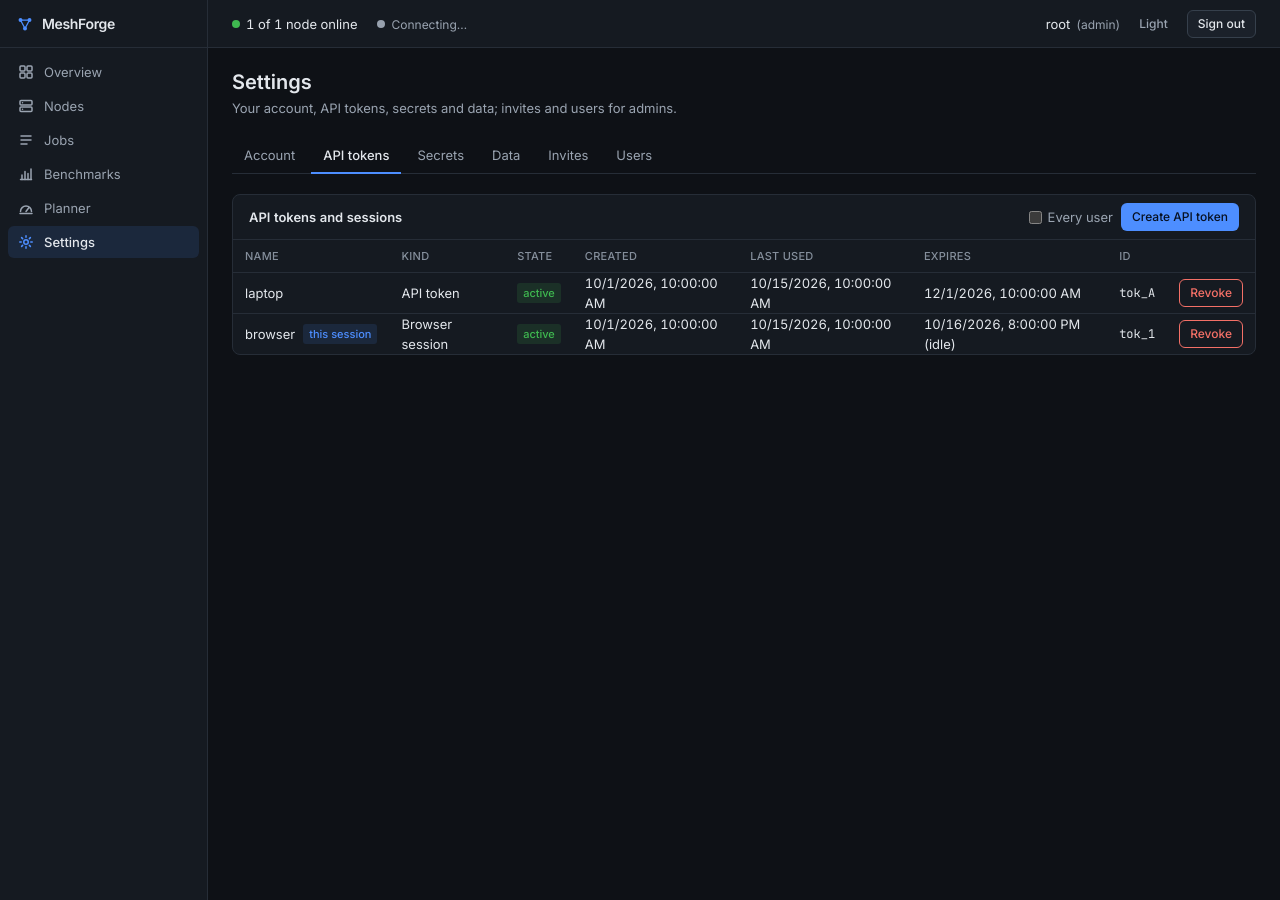
Test: API tokens › lists what the API returns; an admin can show every user's
Expected: the text "tok_A" is shown, [1107,272,1167,313]
Expected: the text "Browser session" is shown, [390,313,505,354]
Step 1. Click the checkbox labelled "Every user" → {"x": 1035, "y": 217}, box [1029,210,1042,224]
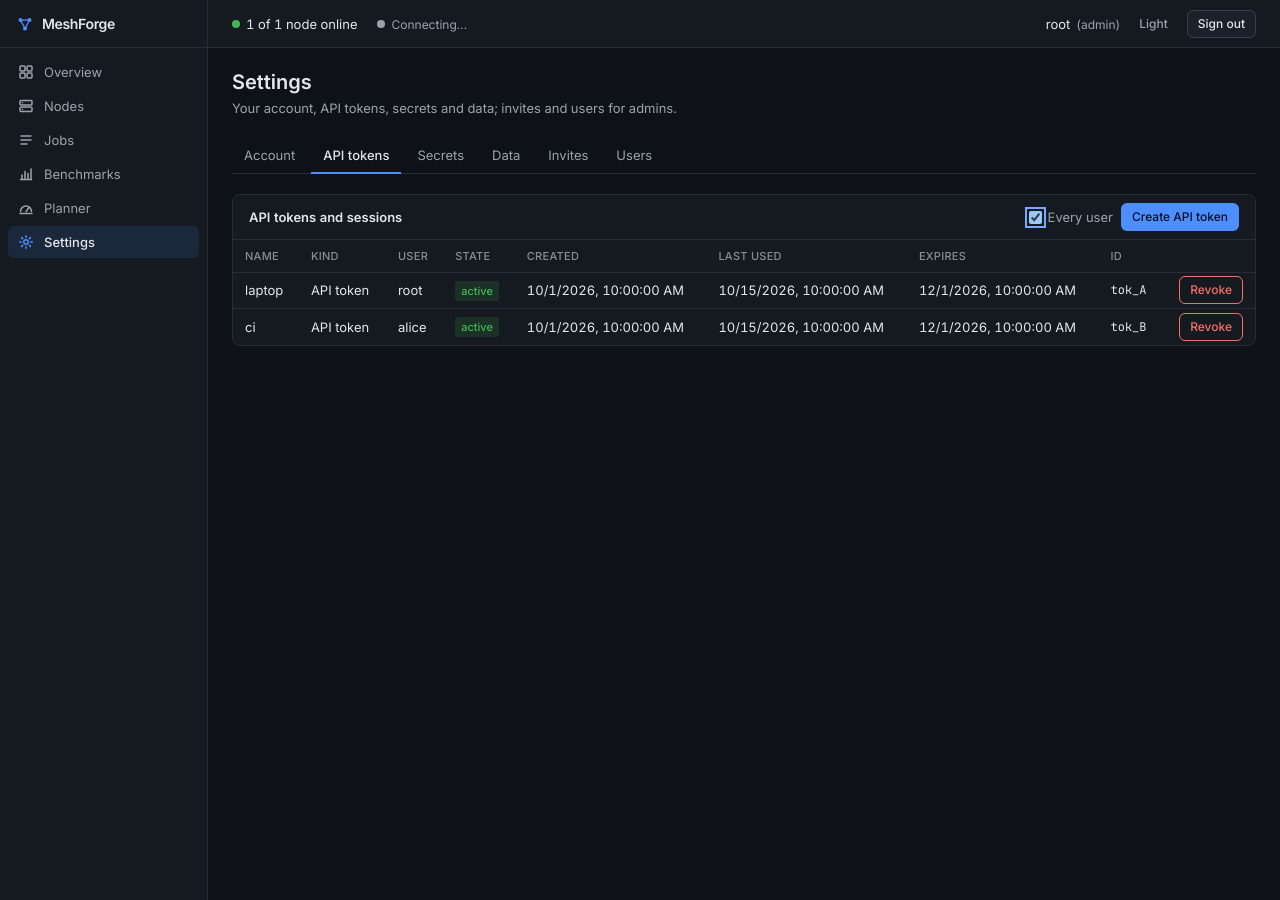
Expected: the text "alice" is shown, [386,308,443,344]
